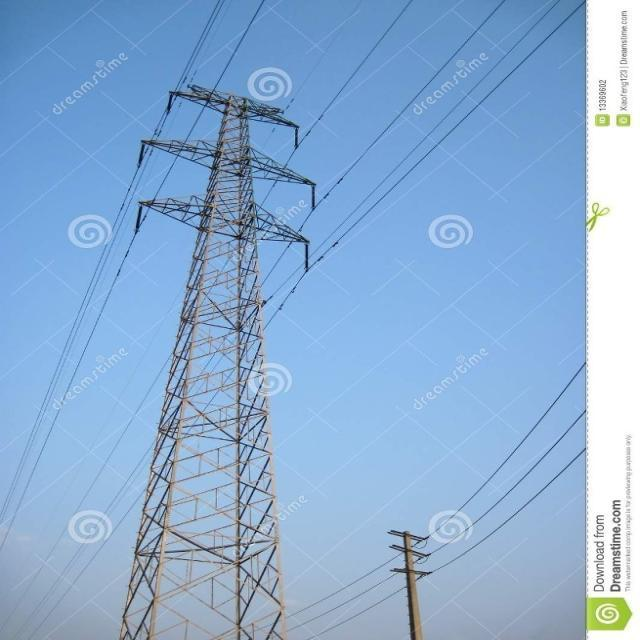non-critical vegetation: (133, 74, 303, 573)
